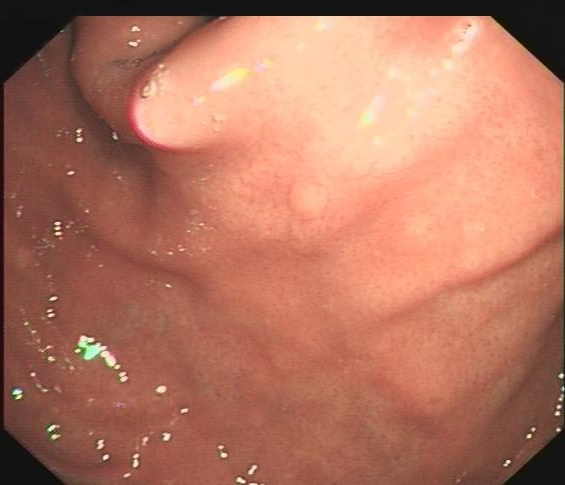Polyp: (281, 173, 338, 229)
